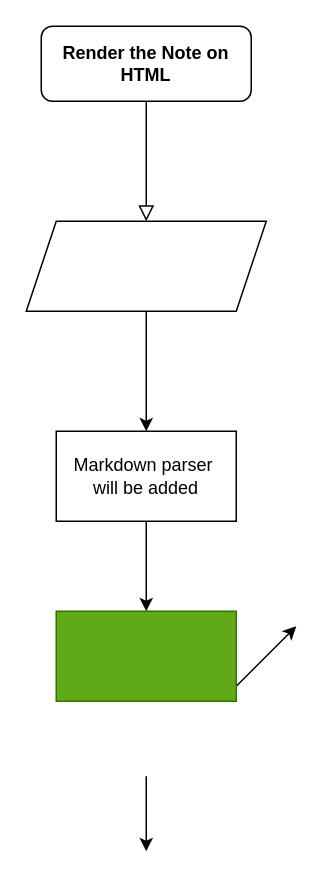
Image size: 335x890. Some labels were removed from this diagram. Each missing label, with the box of its shape:
Frontend displays the Note: (25, 220, 266, 311)
Grammar Checking: (55, 610, 236, 701)
